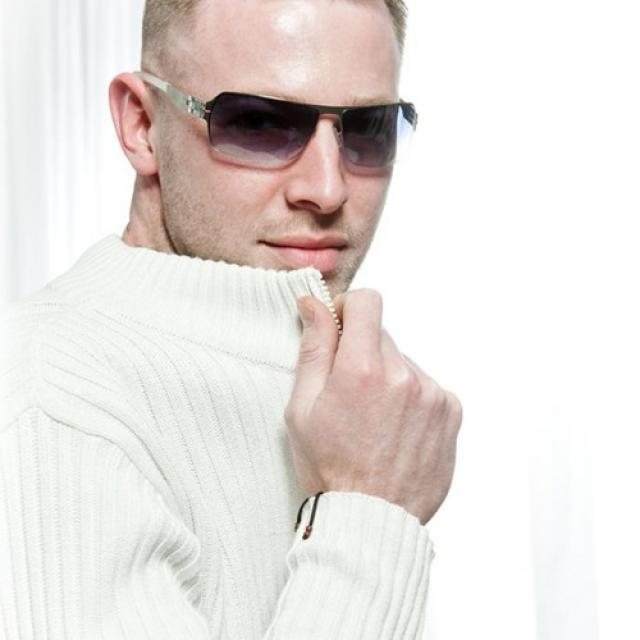8_ropa_rostro: (0, 230, 462, 531)
